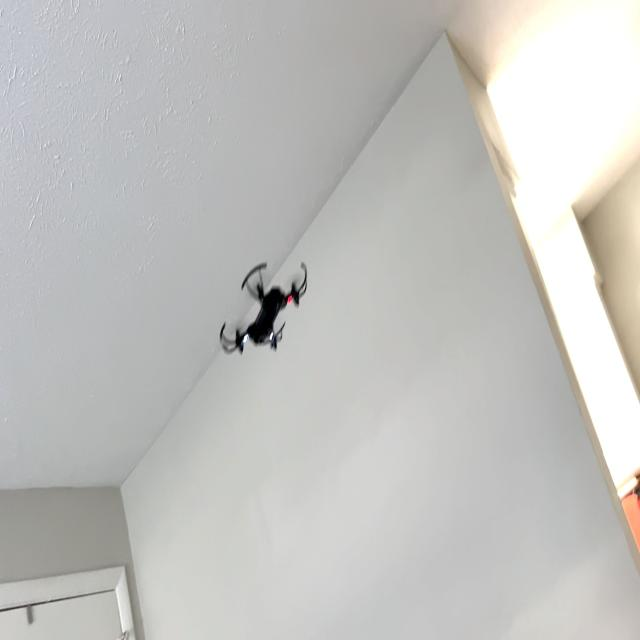drone: (215, 249, 315, 369)
